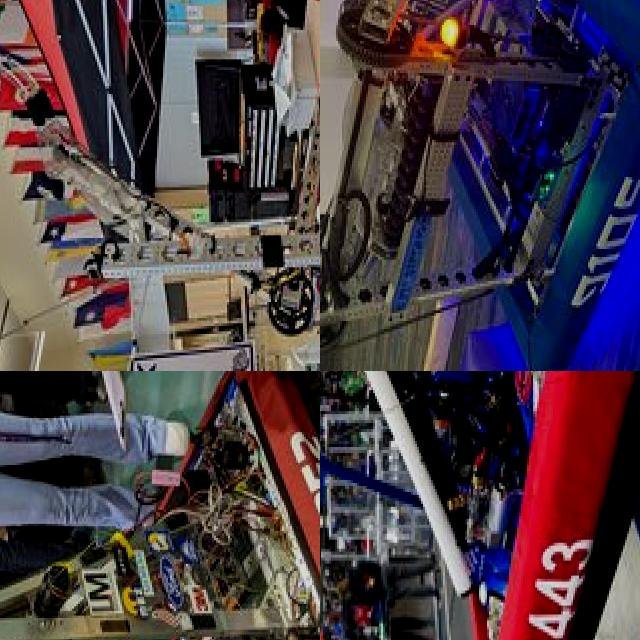FRC-Robots: (320, 0, 640, 371), (10, 0, 320, 371), (0, 371, 320, 640), (320, 371, 619, 640)
